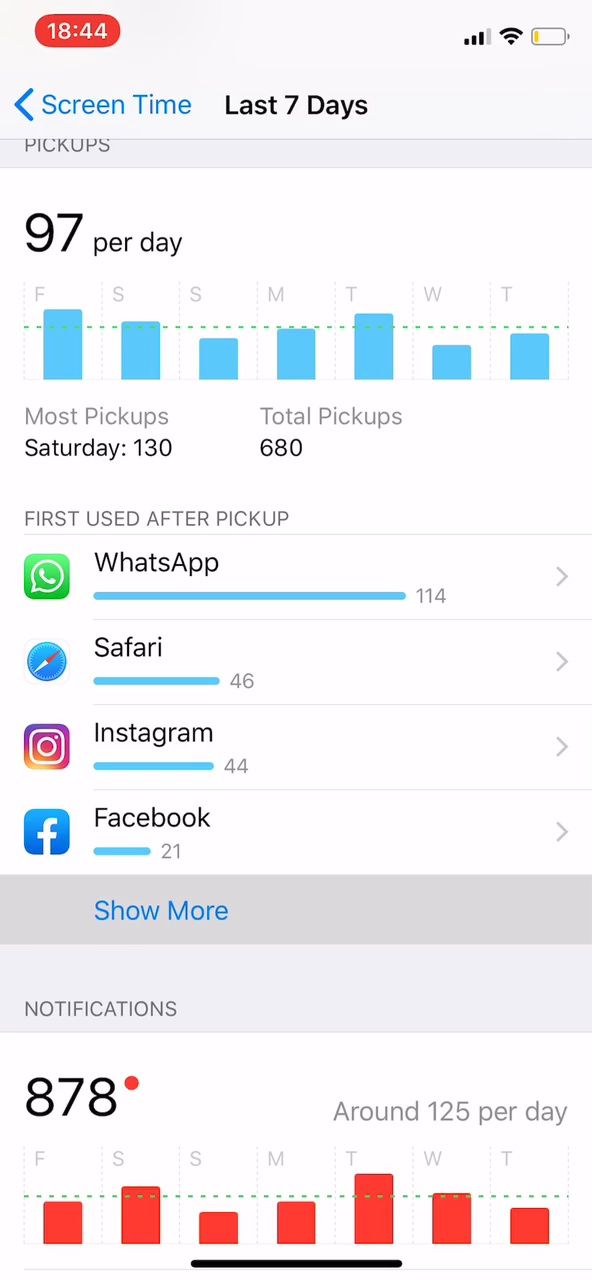not_over: (14, 960, 197, 1130)
pick_app: (4, 535, 474, 614), (4, 619, 272, 699), (3, 709, 268, 788), (1, 791, 233, 869)
pick_over: (3, 396, 450, 488)
week: (217, 89, 380, 122)
